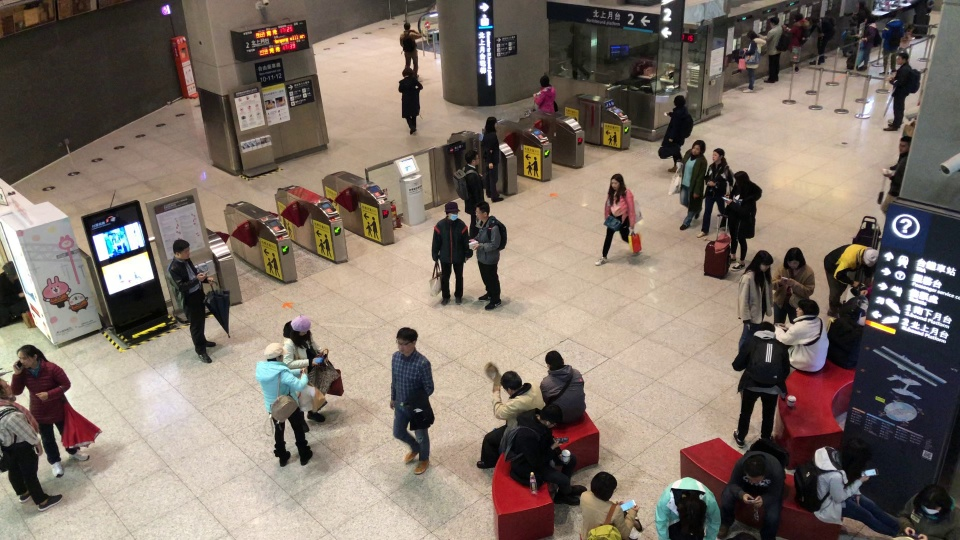person_head: (846, 439, 872, 472), (590, 471, 618, 501), (679, 500, 707, 527), (16, 344, 44, 367), (396, 327, 419, 355), (743, 455, 765, 484), (538, 403, 562, 429), (500, 369, 523, 396), (920, 487, 943, 514), (785, 246, 806, 269), (794, 299, 820, 316), (264, 342, 286, 361), (171, 238, 190, 259), (757, 250, 775, 272), (293, 316, 311, 337), (545, 349, 564, 368), (731, 169, 751, 186), (864, 246, 878, 269), (474, 202, 490, 222), (2, 260, 18, 279), (443, 200, 458, 220), (463, 149, 480, 166), (609, 173, 624, 191), (898, 135, 911, 155), (691, 139, 705, 157), (671, 93, 689, 106), (757, 319, 775, 332), (895, 52, 912, 65), (1, 379, 12, 398), (484, 116, 498, 130), (711, 147, 724, 162), (539, 73, 550, 87), (401, 67, 414, 76), (746, 29, 757, 39), (769, 16, 779, 27), (794, 12, 803, 22), (865, 15, 875, 24), (888, 10, 897, 19), (810, 15, 819, 23), (403, 21, 410, 30)
person_vbox: (9, 344, 90, 477), (793, 438, 901, 537), (499, 403, 587, 507), (0, 378, 63, 511), (254, 342, 315, 468), (731, 320, 790, 448), (717, 438, 789, 540), (474, 369, 544, 469), (389, 327, 435, 475), (165, 238, 216, 364), (281, 315, 330, 431), (578, 471, 644, 540), (718, 169, 762, 272), (468, 202, 508, 310), (430, 200, 471, 305), (654, 476, 721, 540), (823, 243, 880, 318), (593, 172, 637, 266), (774, 298, 829, 373), (735, 249, 774, 354), (538, 349, 587, 429), (897, 484, 960, 539), (771, 246, 815, 324), (695, 147, 733, 237), (881, 51, 920, 134), (452, 149, 487, 239), (674, 140, 707, 228), (657, 93, 693, 173), (478, 116, 506, 203), (880, 135, 910, 216), (757, 16, 790, 85), (0, 261, 29, 328), (781, 13, 812, 74), (738, 28, 766, 93), (397, 68, 423, 135), (880, 9, 903, 77), (856, 16, 882, 74), (809, 15, 835, 67), (399, 22, 422, 79), (532, 74, 557, 113)
